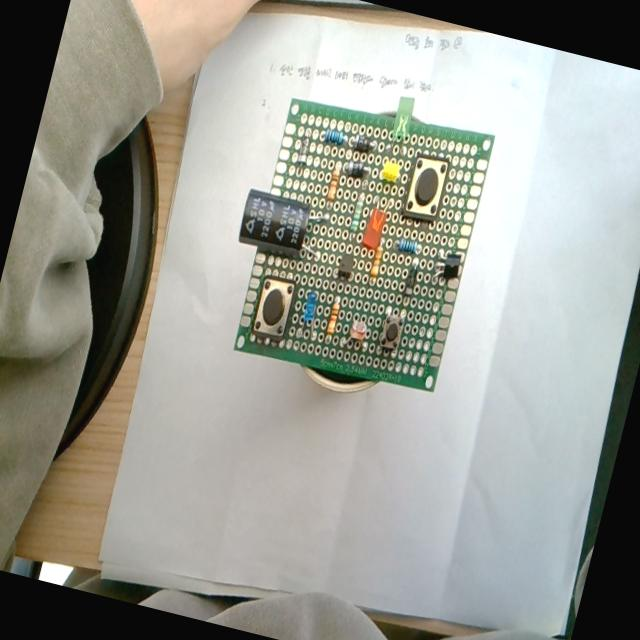Electrolytic capacitor: (236, 187, 314, 257)
cds: (338, 313, 375, 358)
diode: (402, 257, 420, 297), (348, 132, 375, 154), (295, 131, 312, 165), (342, 158, 366, 180)
led: (384, 90, 422, 158), (294, 282, 327, 346), (360, 205, 389, 252), (378, 158, 402, 184)
resistor: (349, 190, 366, 232), (326, 161, 342, 200), (369, 240, 385, 278), (326, 296, 342, 334), (322, 126, 346, 146), (396, 237, 418, 254)
switch: (400, 152, 450, 222), (251, 275, 296, 339), (376, 308, 406, 354)
transistor: (432, 248, 465, 289), (334, 252, 355, 282)
